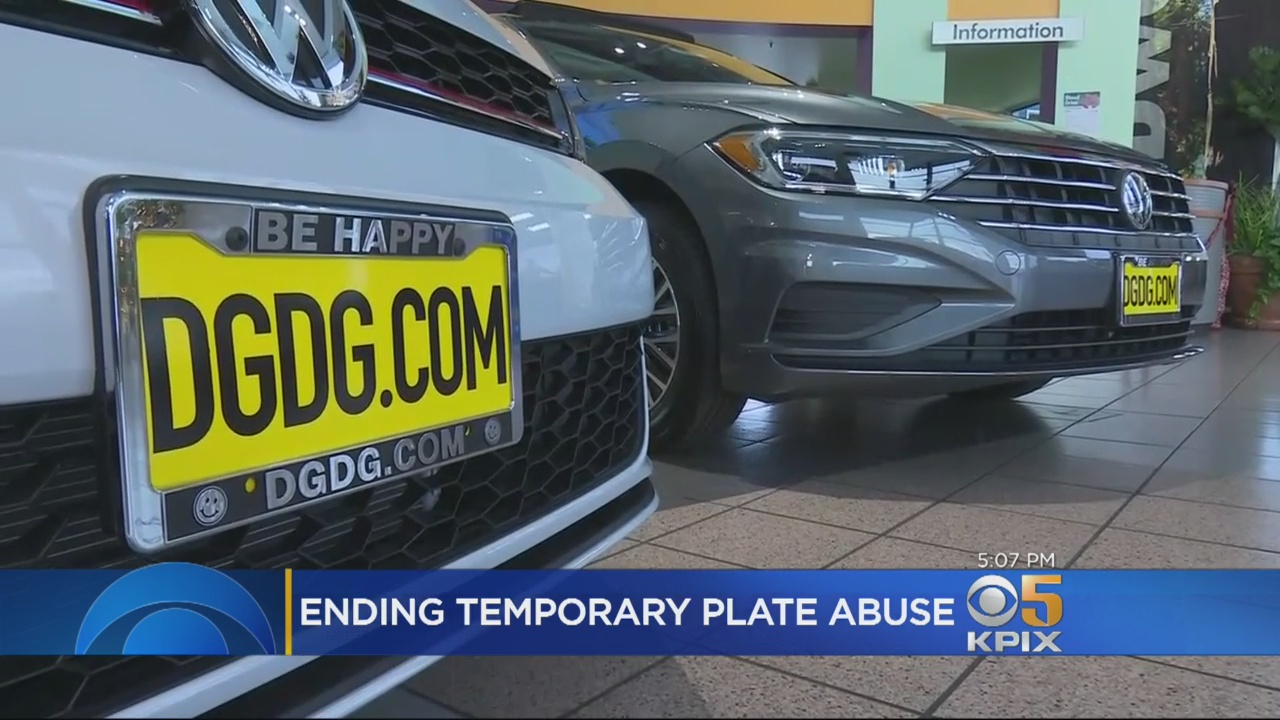license plate: (102, 186, 527, 557), (1113, 249, 1194, 328)
